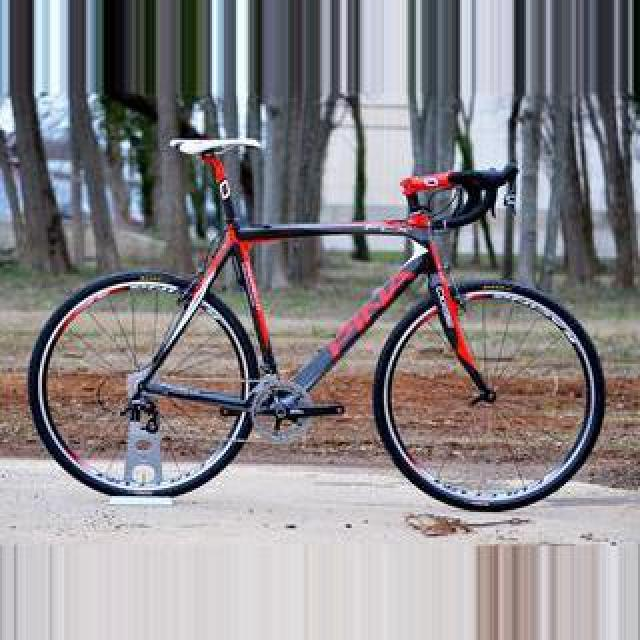Person: (25, 107, 607, 515)
